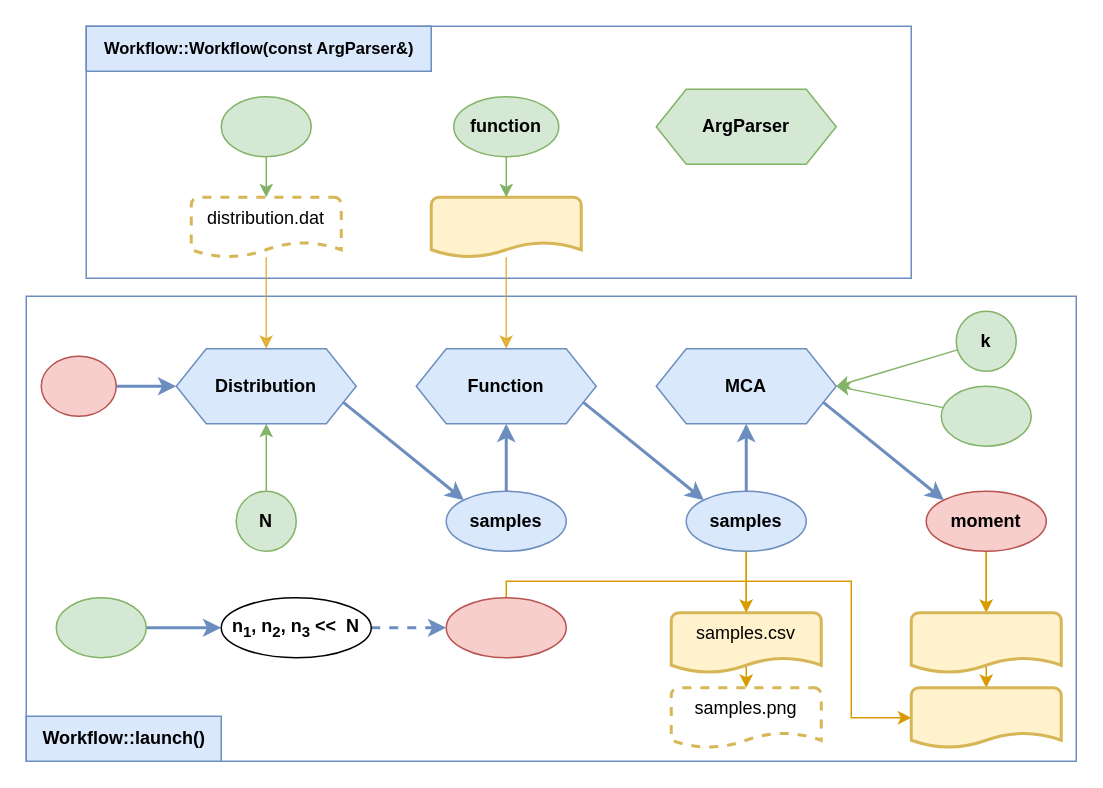
This 1103x788 diagram has some shape labels left out. Each missing label, with the centre of its shape:
clt: the point at 100,627
dist: the point at 265,126
errors: the point at 505,627
function.dat: the point at 505,226
mode: the point at 985,415
report.out: the point at 985,642
SEED: the point at 78,385
std::cout: the point at 985,717
